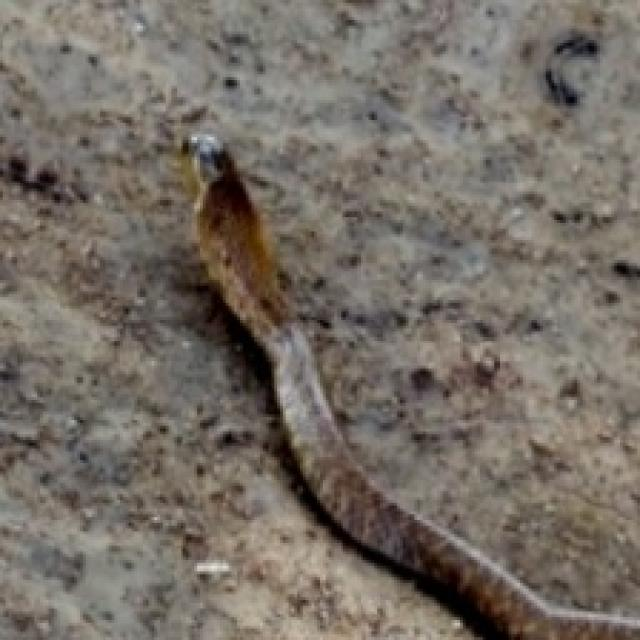philippine cobra: (180, 134, 637, 637)
